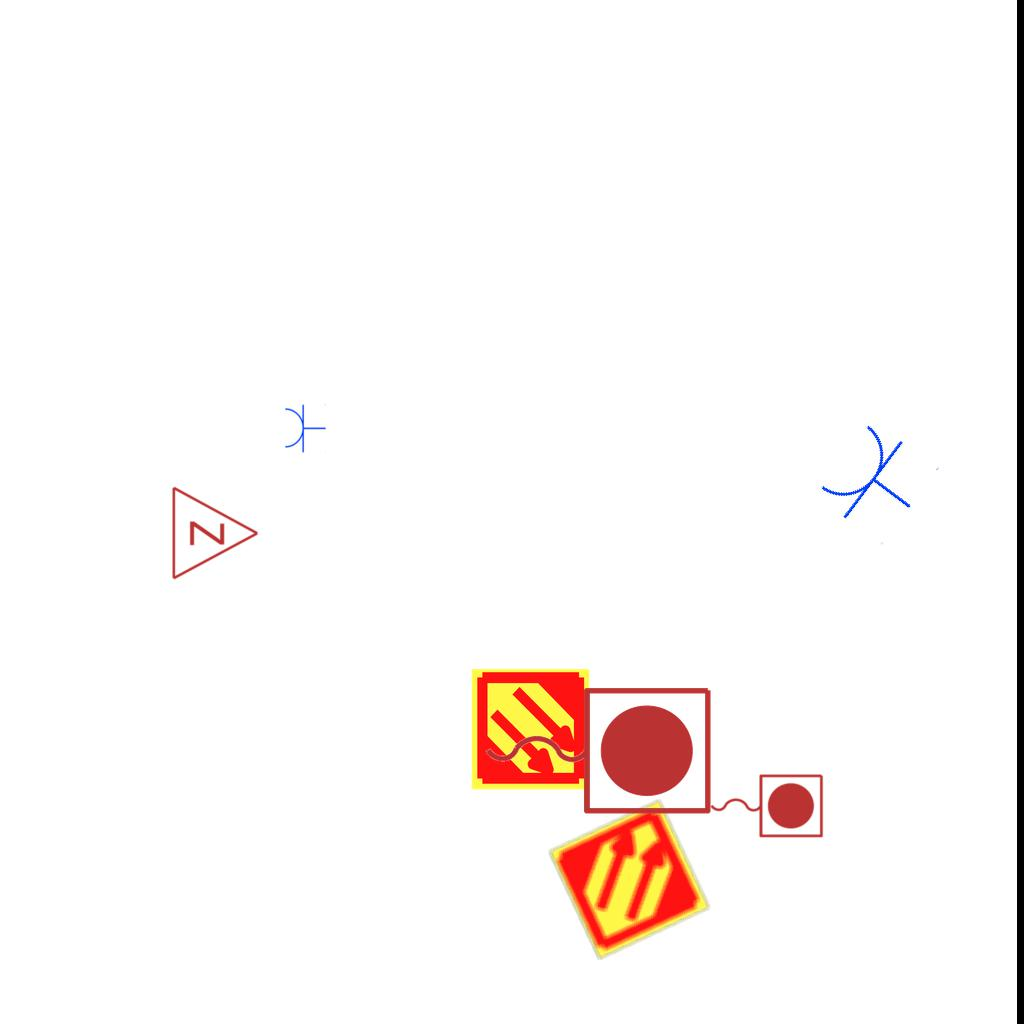ASR_Ansaugrauchmelder: (546, 796, 713, 963), (468, 667, 593, 792)
Schukosteckdose_einfach: (811, 414, 941, 547), (283, 403, 326, 453)
Zimmersignalleuchte: (165, 483, 265, 581)
Zugtaster: (475, 677, 719, 821), (705, 769, 827, 841)
